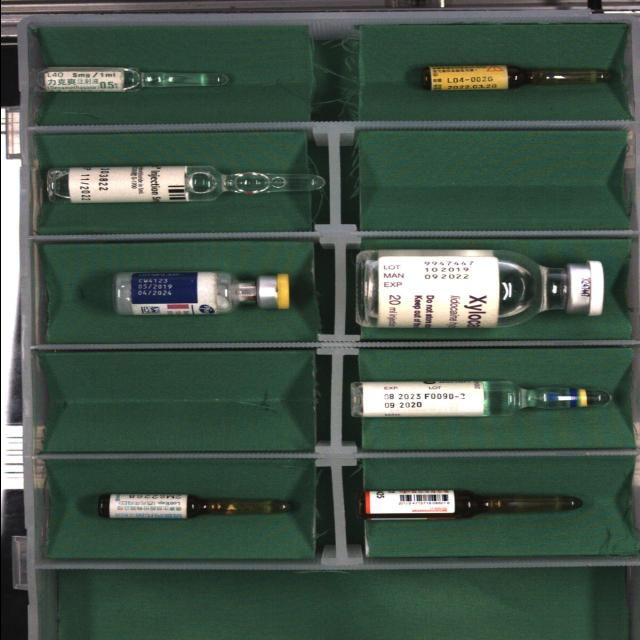Vials: (356, 250, 603, 328), (114, 271, 288, 315)
